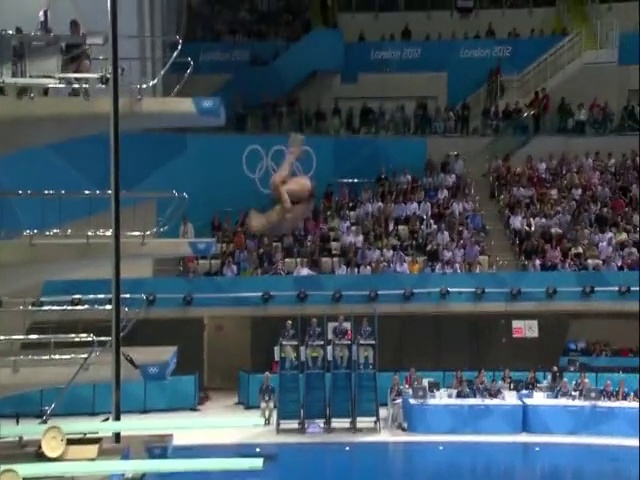diver: (243, 132, 314, 238)
